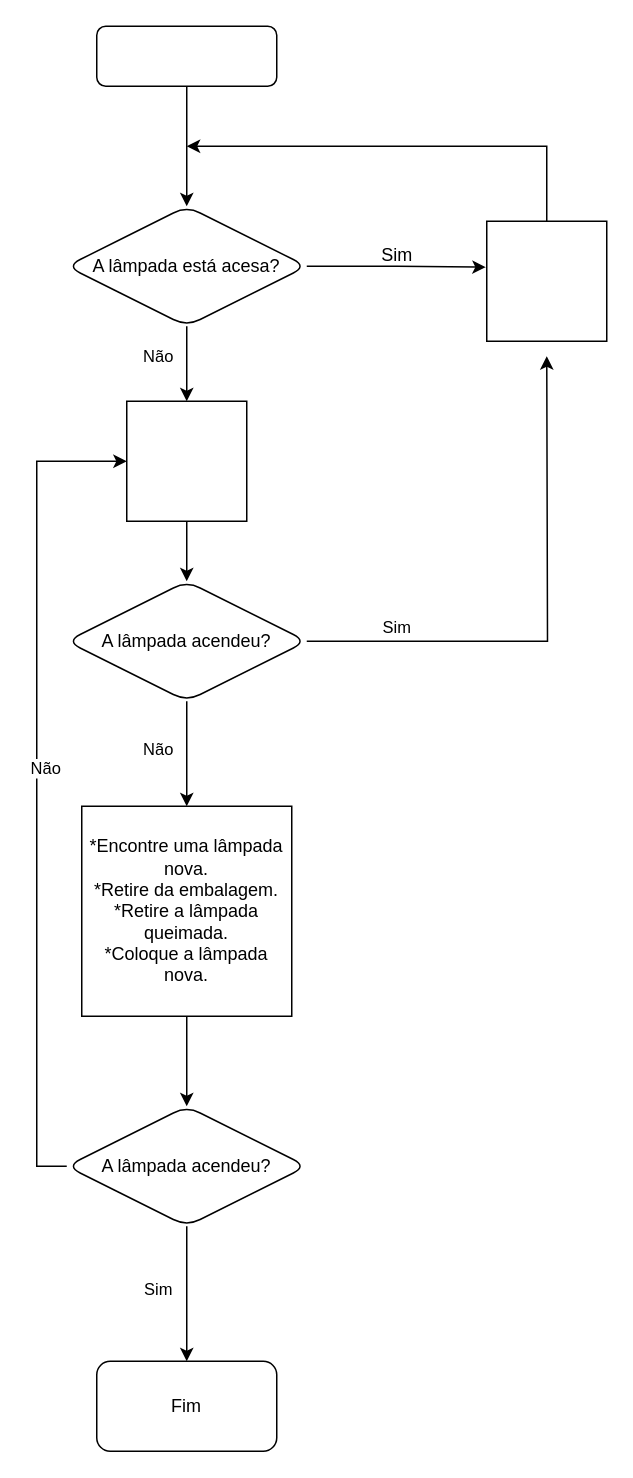
The diagram is 633 pixels wide and 1478 high, and some of its shapes have lost their labels. The centre of each missing label's shape, as x and y in pixels:
"Aperte o interruptor" belongs at (186,460).
"Inicio" belongs at (186,55).
"Vá para outro cômodo." belongs at (546,280).
